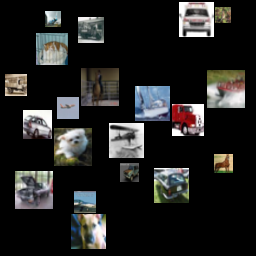automobile: (13, 183, 39, 209)
bird: (10, 109, 36, 135), (56, 25, 78, 47)
cat: (133, 50, 171, 88), (212, 136, 250, 174)
deer: (45, 201, 80, 236), (169, 96, 185, 112), (189, 77, 205, 93)
dog: (67, 157, 102, 192), (209, 185, 244, 220), (94, 207, 123, 236), (123, 110, 152, 139), (175, 24, 191, 40)
frog: (65, 51, 103, 89), (193, 30, 225, 62)
ship: (26, 69, 64, 107), (40, 151, 62, 173)
